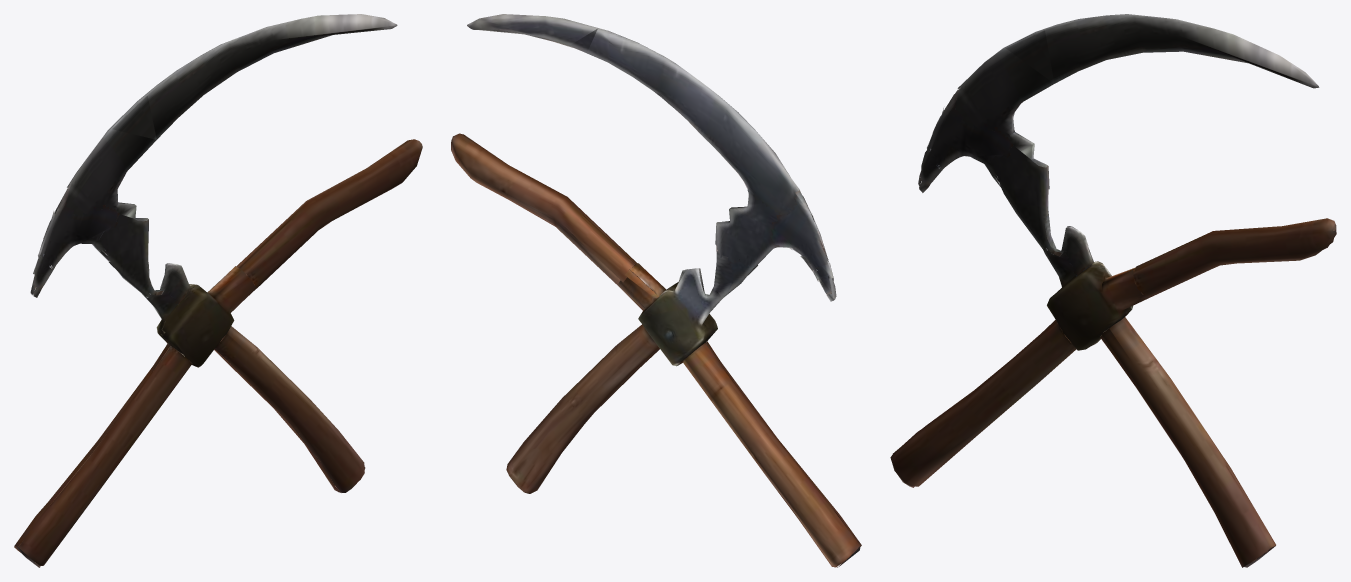
Rendered from weapon_celurit.glb.
The picture shows the model from 3 angles, left to right: view 1: azimuth 30°, elevation 25°; view 2: azimuth 150°, elevation 25°; view 3: azimuth 330°, elevation 25°; orthographic projection. The views are drawn at different scales.
Visible parts, largest first — view 1: weapon_celurit; view 2: weapon_celurit; view 3: weapon_celurit.
Part boxes in pixels (left/top/right/bottom): weapon_celurit: left=14, top=14, right=422, bottom=567; weapon_celurit: left=451, top=14, right=861, bottom=567; weapon_celurit: left=890, top=14, right=1336, bottom=567.
Bounding box in the file's own units: 0.4408 × 0.5006 × 0.0298.
1 material, 1 textured.
